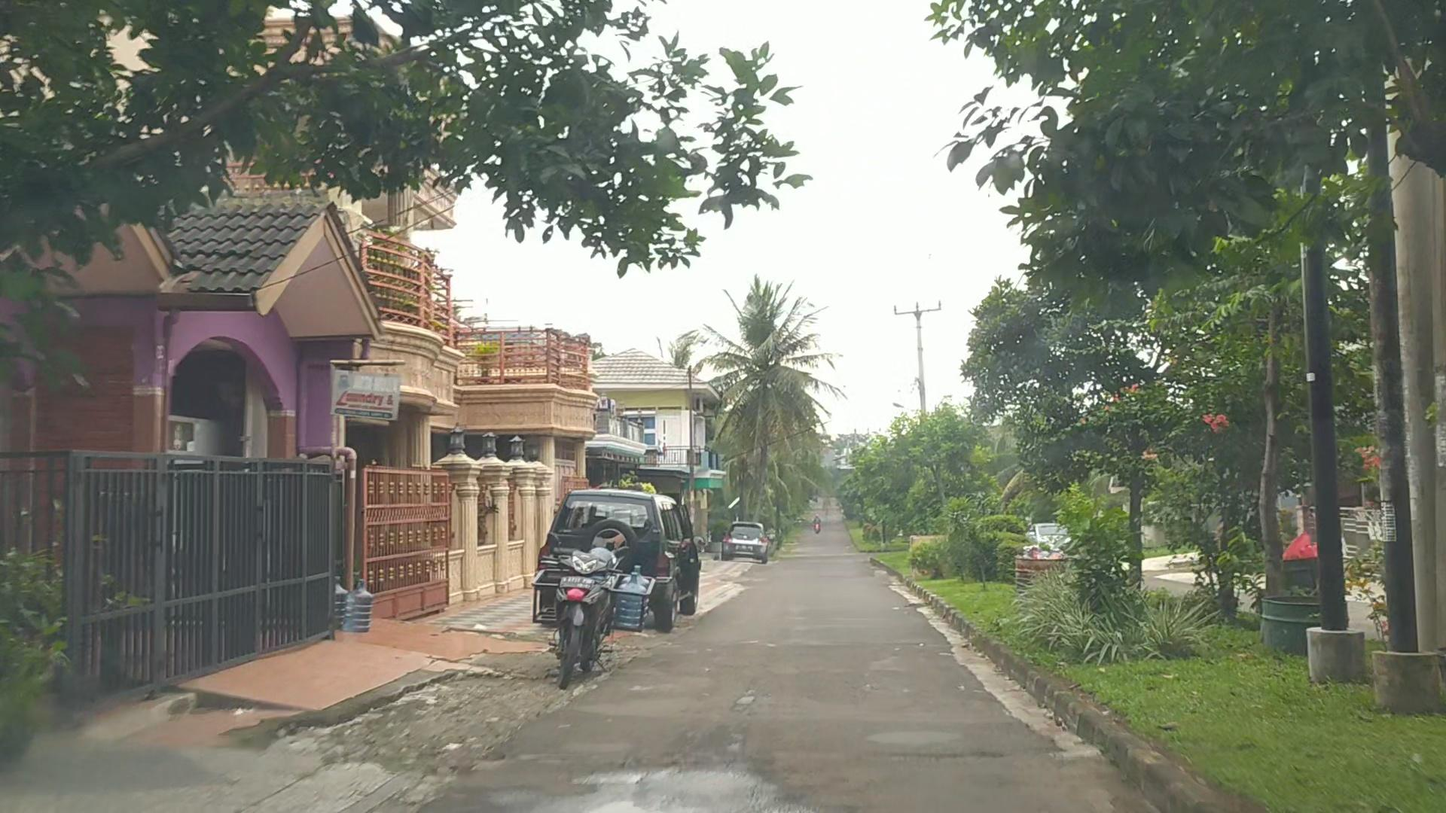pothole: (551, 759, 813, 813)
